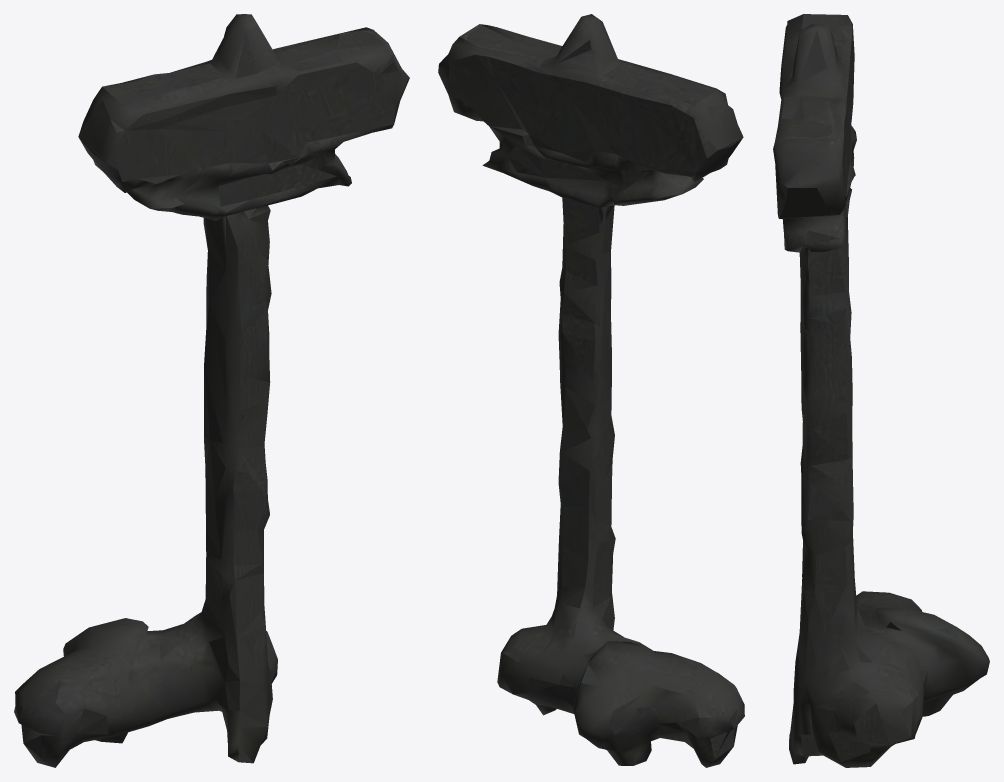
Rendered from sign.glb.
The picture shows the model from 3 angles, left to right: view 1: azimuth 30°, elevation 25°; view 2: azimuth 150°, elevation 25°; view 3: azimuth 270°, elevation 25°; orthographic projection. The views are drawn at different scales.
Parts seen in each view (by area): view 1: tripo_node_208c4725; view 2: tripo_node_208c4725; view 3: tripo_node_208c4725.
Boxes of the visible parts, <box> form: tripo_node_208c4725: <box>14,14,409,767</box>; tripo_node_208c4725: <box>438,14,744,767</box>; tripo_node_208c4725: <box>773,14,989,767</box>.
Size of the model in its own units: 0.484 by 1 by 0.2656.
Materials: 1 (1 with a texture image).
